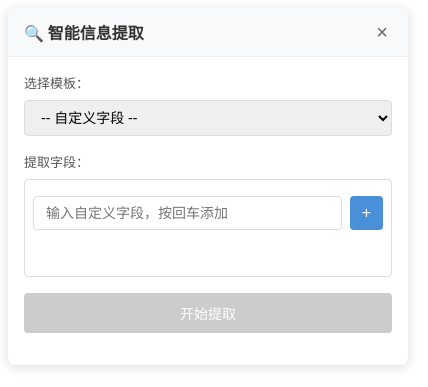
Test: SmartExtractPanel › Field Management › should remove field when clicking remove button
This screenshot has width=428, height=387.
Step 1. Type "待删除字段" into the field with id "custom-field-input" → {"x": 187, "y": 213}, box [33,196,342,230]
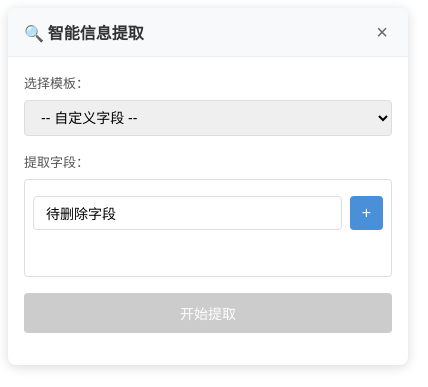
Step 2. Click the button with id "add-field-btn" → {"x": 366, "y": 213}, box [350,196,383,230]
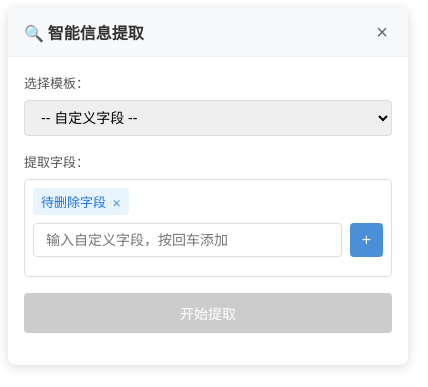
Step 3. Click the text with class "remove-tag" → {"x": 117, "y": 202}, box [112,193,121,210]
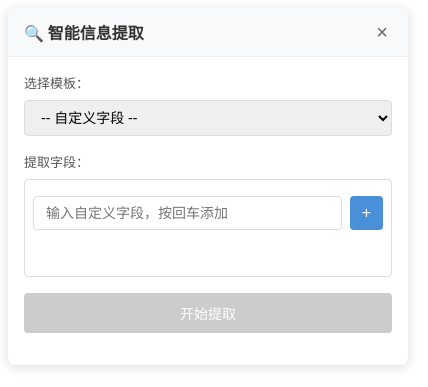
Expected: no elements with class "field-tag" are shown
